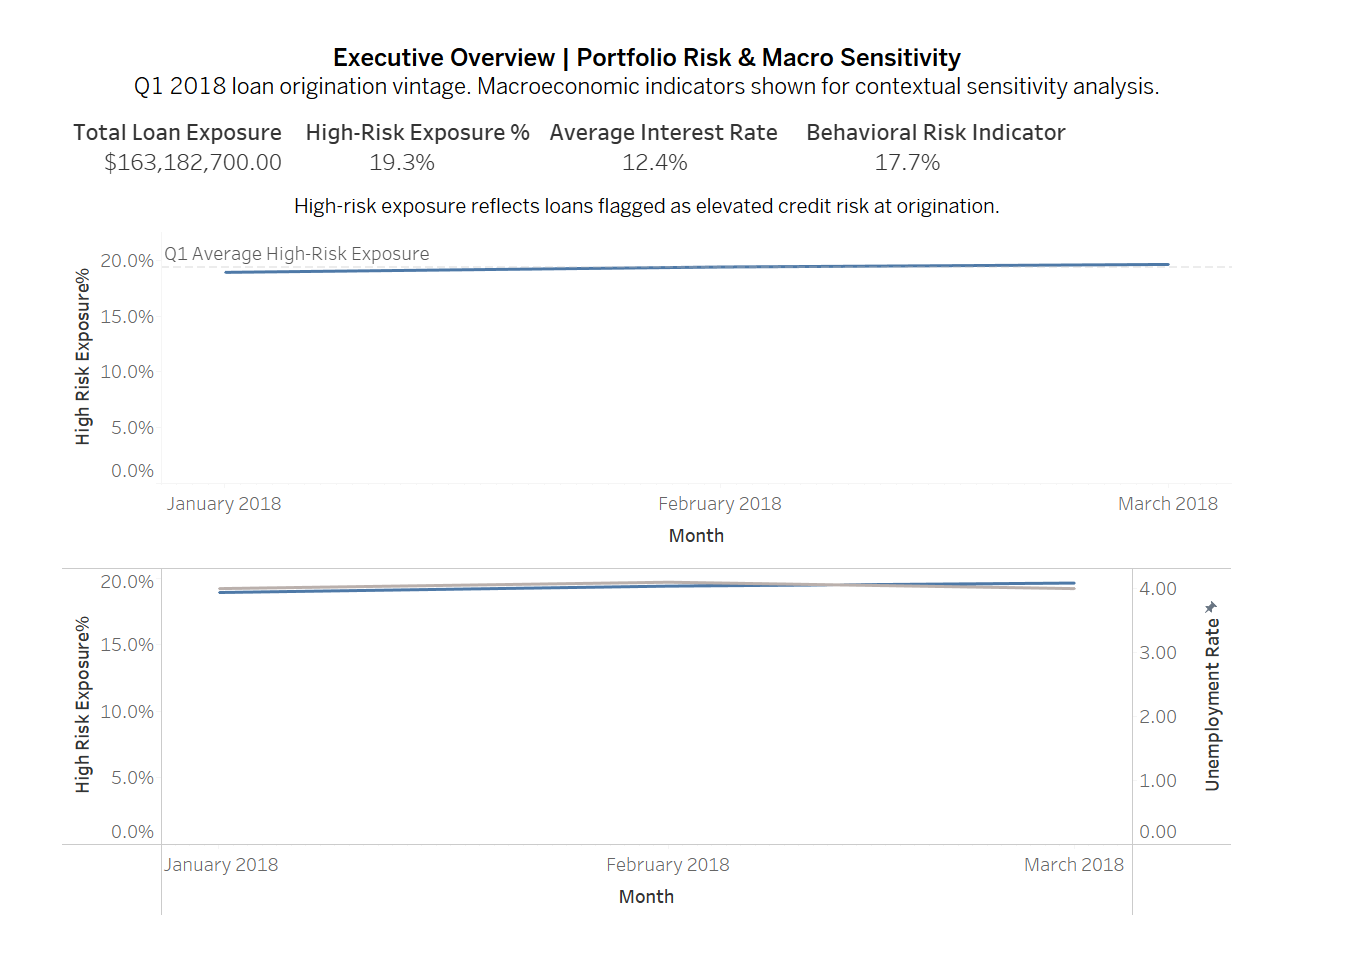

What the dashboard file says about the page in this screenshot:
{"tool":"tableau","page":{"name":"Executive Overview | Portfolio Risk Snapshot","canvas":[1200,900],"ordinal":1},"visuals":[{"type":"text","box":[8,8,1184,65]},{"type":"worksheet","title":"Total Exposure","mark":"Text","box":[15,80,228,69]},{"type":"worksheet","title":"High-Risk Exposure %","mark":"Automatic","box":[243,80,248,69]},{"type":"worksheet","title":"Avg Interest Rate","mark":"Automatic","box":[491,80,248,69]},{"type":"worksheet","title":"Behavioral Risk Rate","mark":"Automatic","box":[739,80,288,69]},{"type":"text","box":[8,156,1184,38]},{"type":"worksheet","title":"Trend | High-Risk Exposure Over Time","mark":"Line","rows":["high_risk_exposure_pct"],"cols":["month_start"],"box":[8,194,1184,336]},{"type":"worksheet","title":"Macro Overlay | Risk vs Unemployment","mark":"Automatic","rows":["high_risk_exposure_pct","unemployment_rate"],"cols":["month_start"],"box":[8,530,1184,362]}]}

Visuals, with their boxes on the page's 1200x900 design canvas (x1, y1, x2, y2). These are canvas units, not pixel positions in the 1346x974 screenshot, which may show the page scaled, cropped or inside an application window:
text: (8, 8, 1192, 73)
"Total Exposure" worksheet (Text marks): (15, 80, 243, 149)
"High-Risk Exposure %" worksheet: (243, 80, 491, 149)
"Avg Interest Rate" worksheet: (491, 80, 739, 149)
"Behavioral Risk Rate" worksheet: (739, 80, 1027, 149)
text: (8, 156, 1192, 194)
"Trend | High-Risk Exposure Over Time" worksheet (Line marks): (8, 194, 1192, 530)
"Macro Overlay | Risk vs Unemployment" worksheet: (8, 530, 1192, 892)
